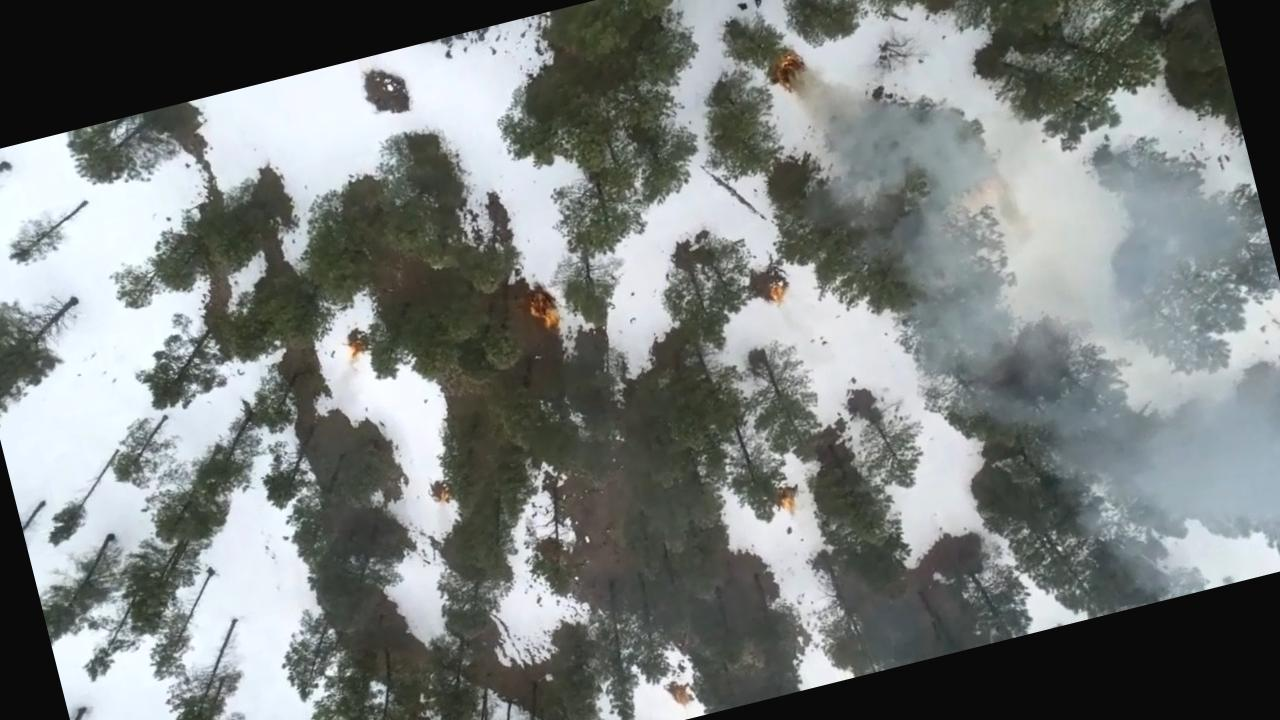fire: (518, 278, 570, 340), (764, 42, 817, 100), (758, 272, 796, 312), (773, 493, 807, 523)
smoke: (916, 303, 1280, 622), (895, 134, 1239, 384), (818, 96, 996, 218)
